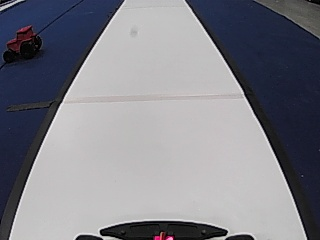tractor: (3, 25, 43, 63)
